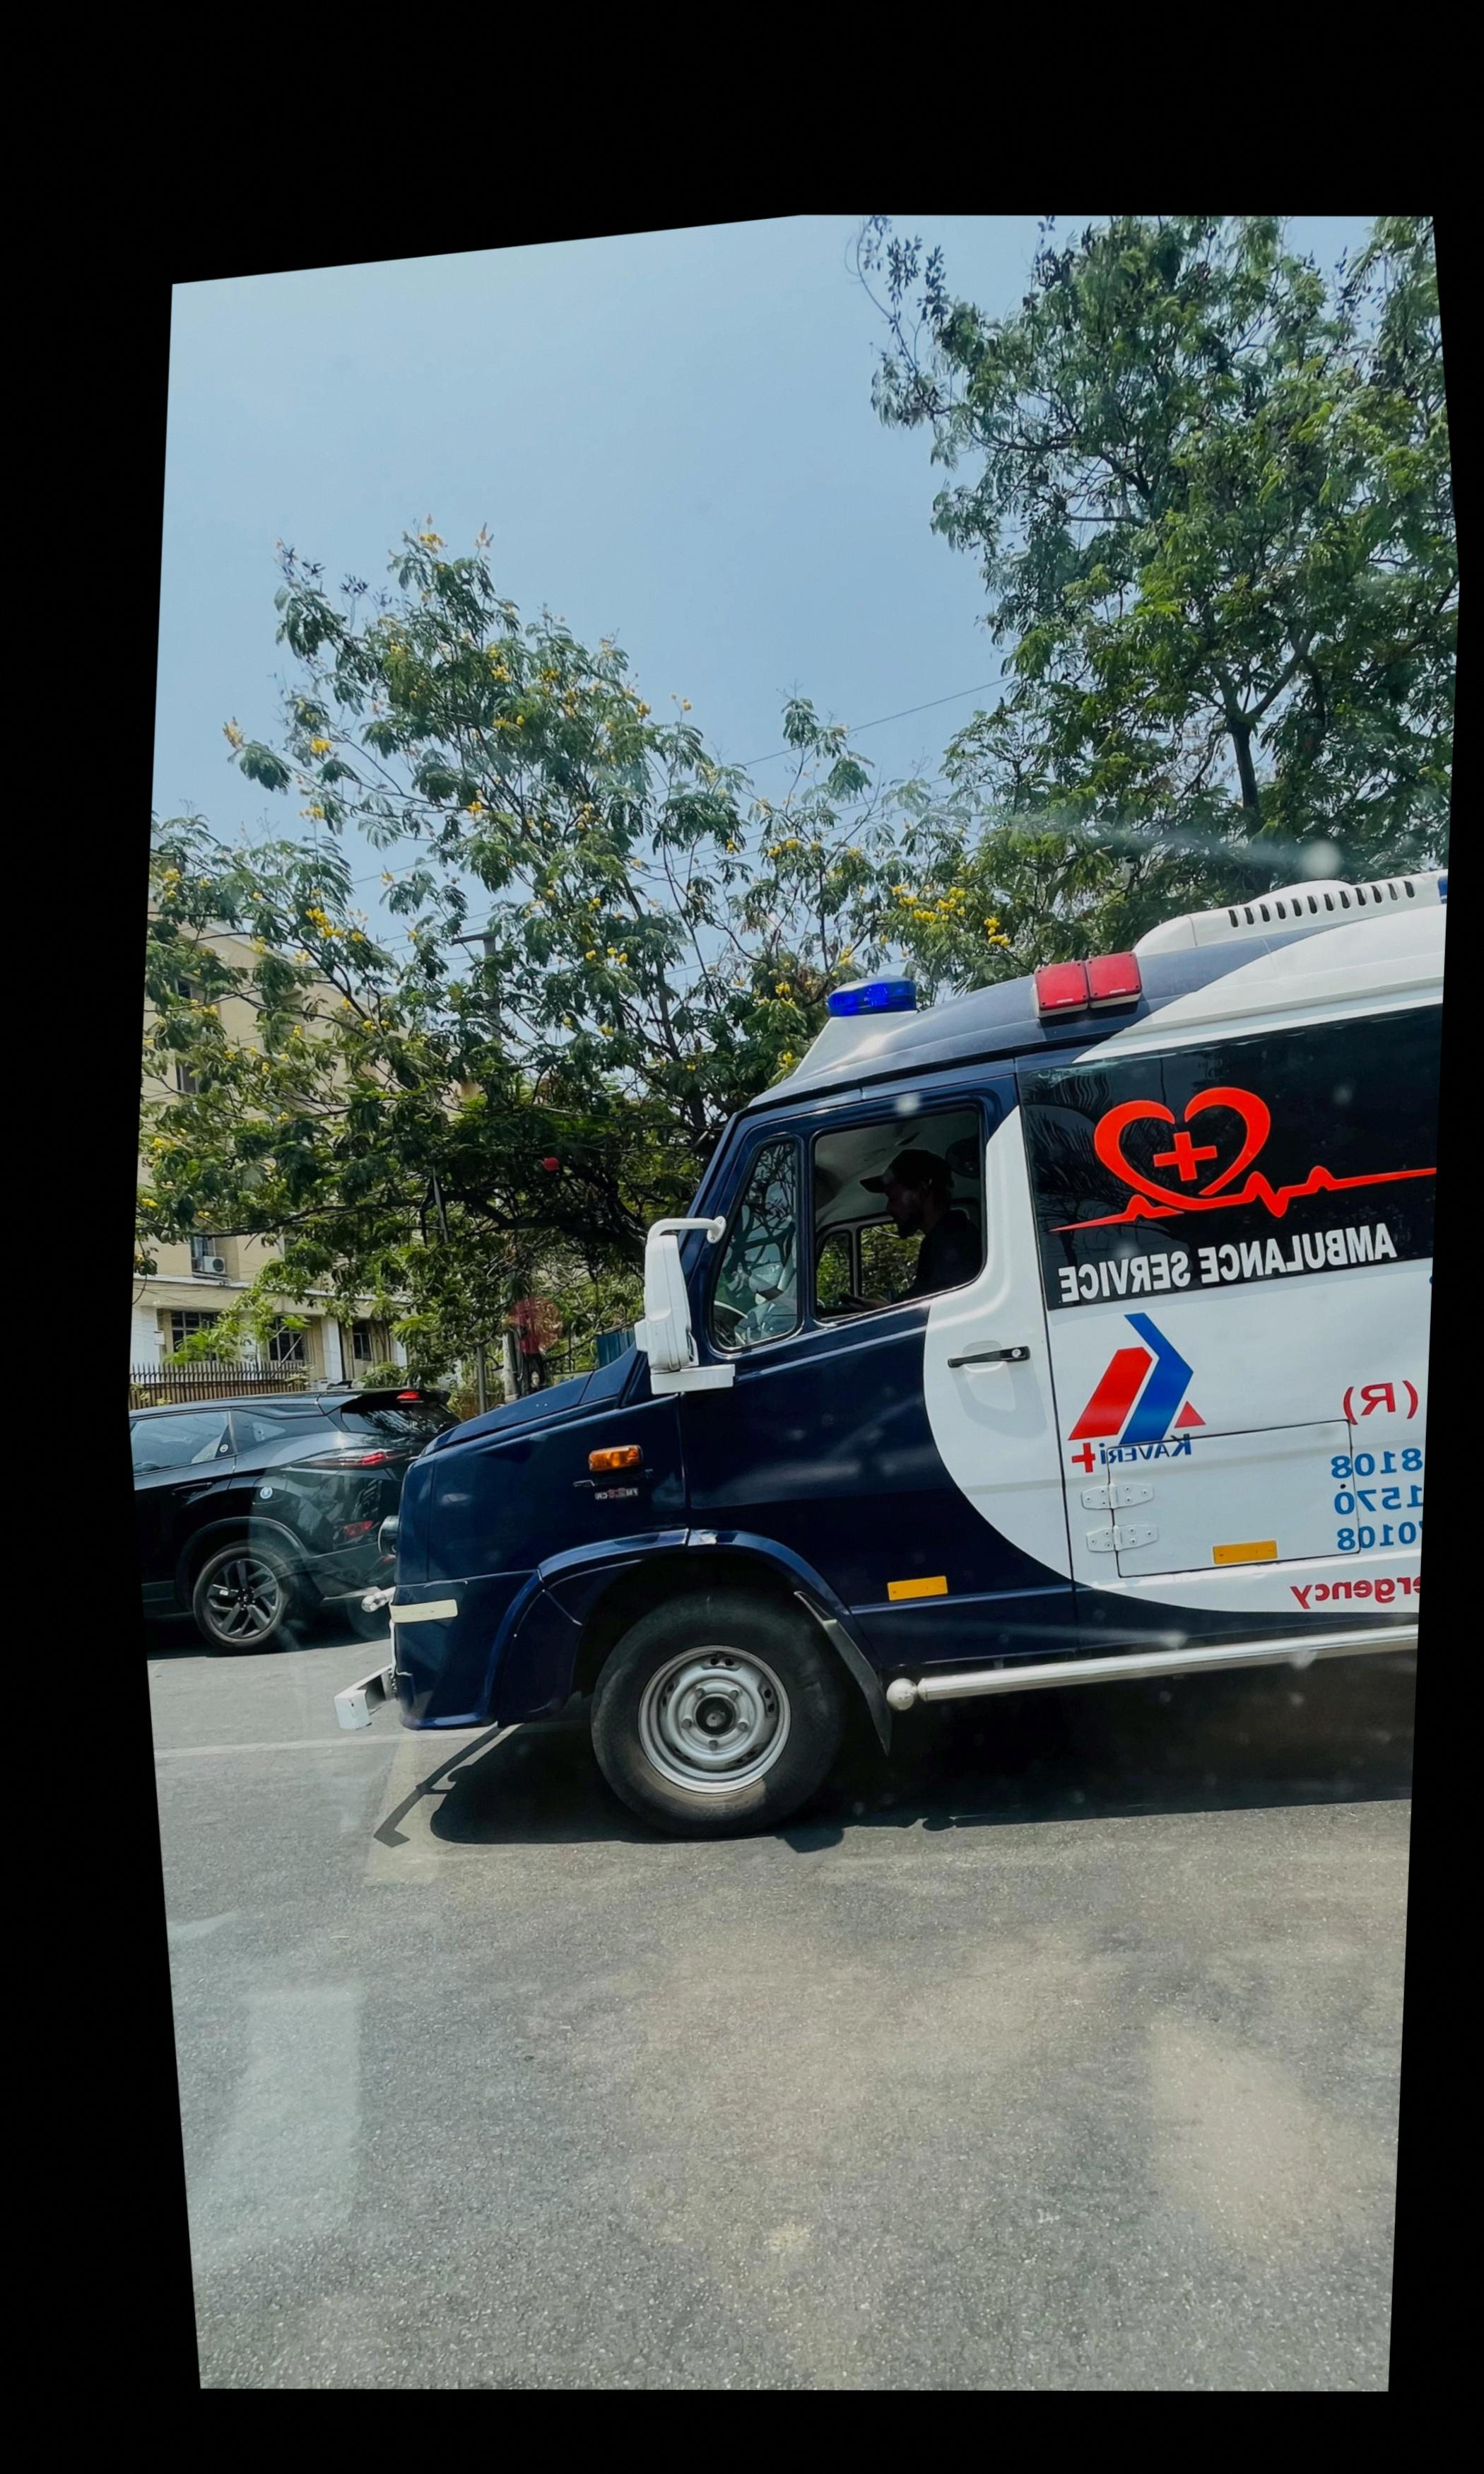ambulance: (387, 880, 1445, 1847)
